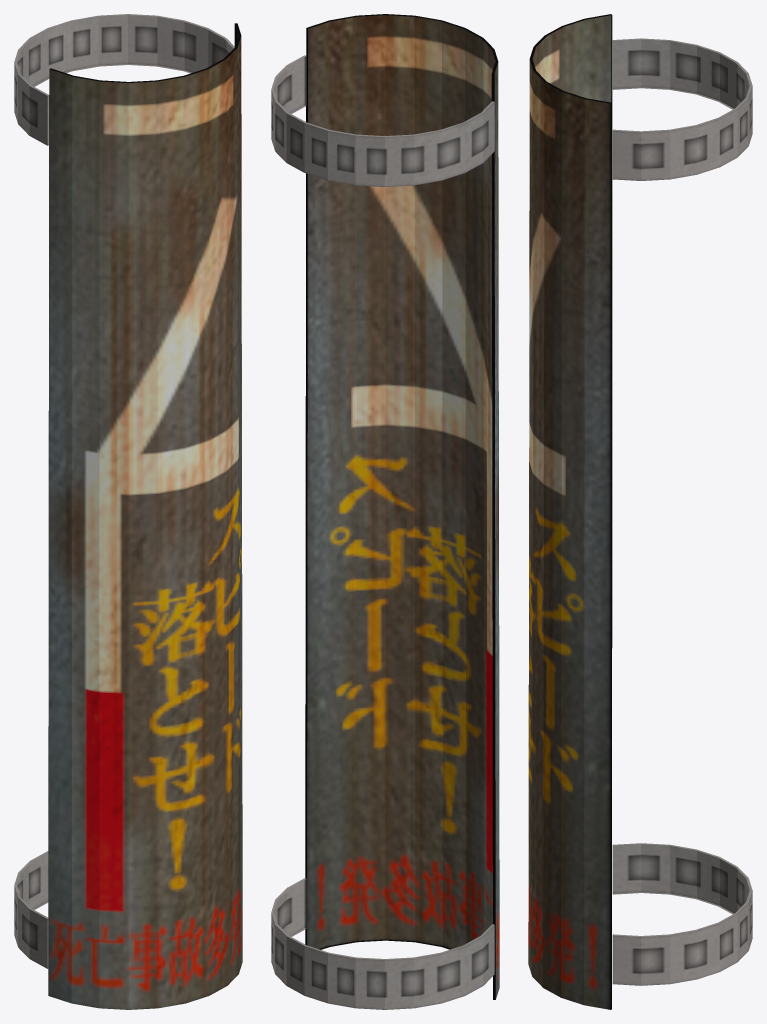
Rendered from PatoKanban01.fbx.
3 views of the same model, side by side, from view 1: azimuth 30°, elevation 25°; view 2: azimuth 150°, elevation 25°; view 3: azimuth 270°, elevation 25° (orthographic). The views are drawn at different scales.
Visible parts, largest first — view 1: Empty_Mesh; view 2: Empty_Mesh; view 3: Empty_Mesh.
Part boxes in pixels (x1,y1,x2,y2): Empty_Mesh: (14, 14, 242, 1009); Empty_Mesh: (271, 14, 499, 1009); Empty_Mesh: (528, 14, 752, 1009).
Bounding box in the file's own units: 0.3434 × 1.54 × 0.3462.
